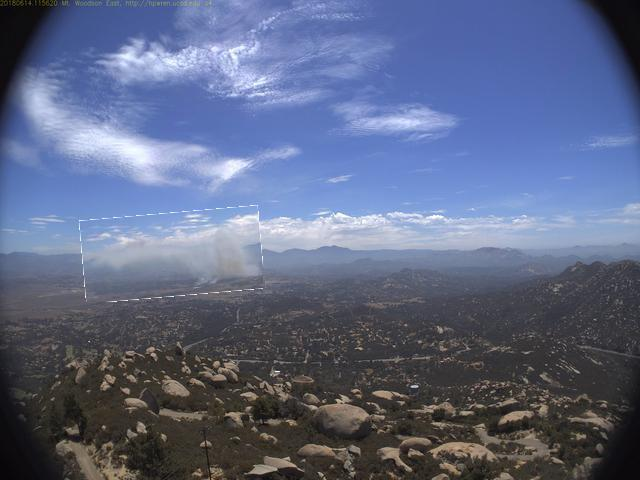smoke: (82, 210, 264, 301)
